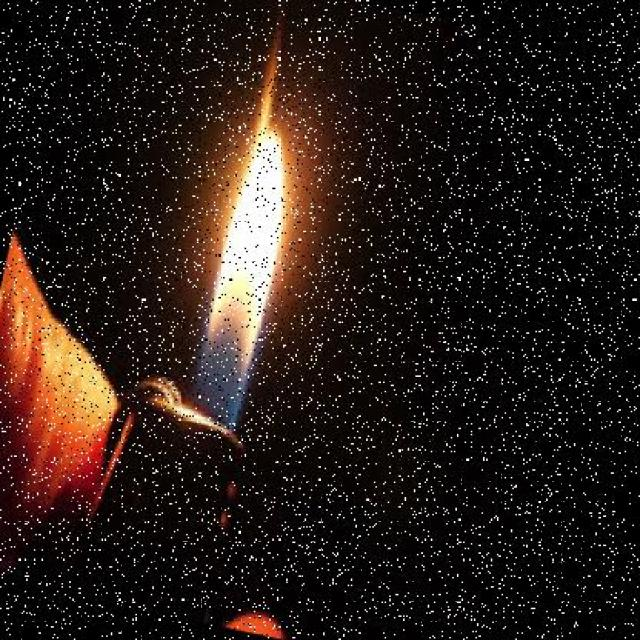fire: (168, 90, 318, 438)
